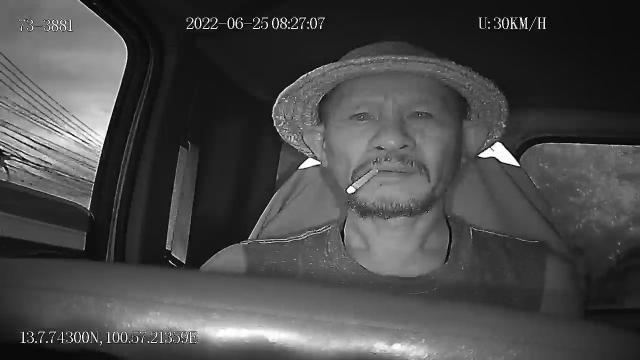SafeDriving: (344, 98, 382, 128), (402, 100, 440, 127)
Smoking: (347, 167, 381, 195)
